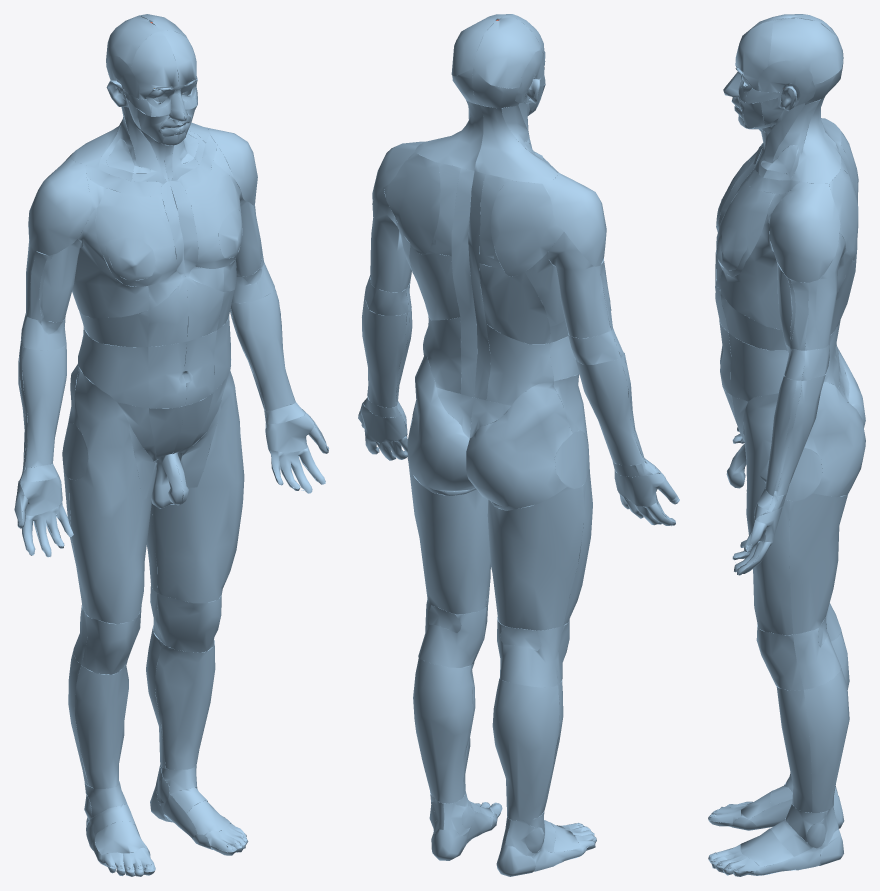
Rendered from brain-DPgeAcqP.glb.
3 views of the same model, side by side, from view 1: azimuth 30°, elevation 25°; view 2: azimuth 150°, elevation 25°; view 3: azimuth 270°, elevation 25° (orthographic). The views are drawn at different scales.
Visible parts, largest first — view 1: body_shell; view 2: body_shell; view 3: body_shell.
Boxes of the visible parts, <box> form: body_shell: <box>14,14,328,876</box>; body_shell: <box>358,14,679,876</box>; body_shell: <box>708,14,865,876</box>.
Bounding box in the file's own units: 6.59 × 16.56 × 2.86.
